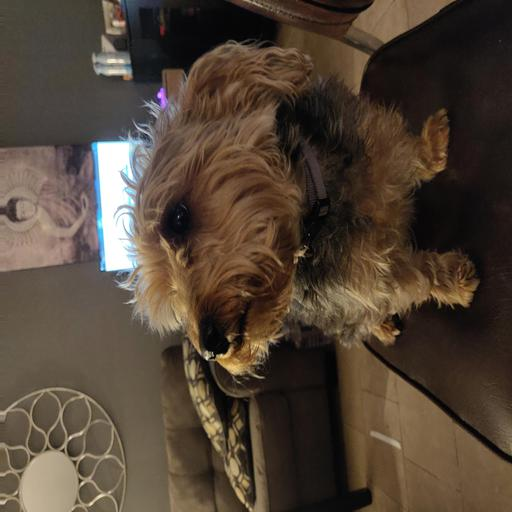dog: (128, 41, 487, 400)
